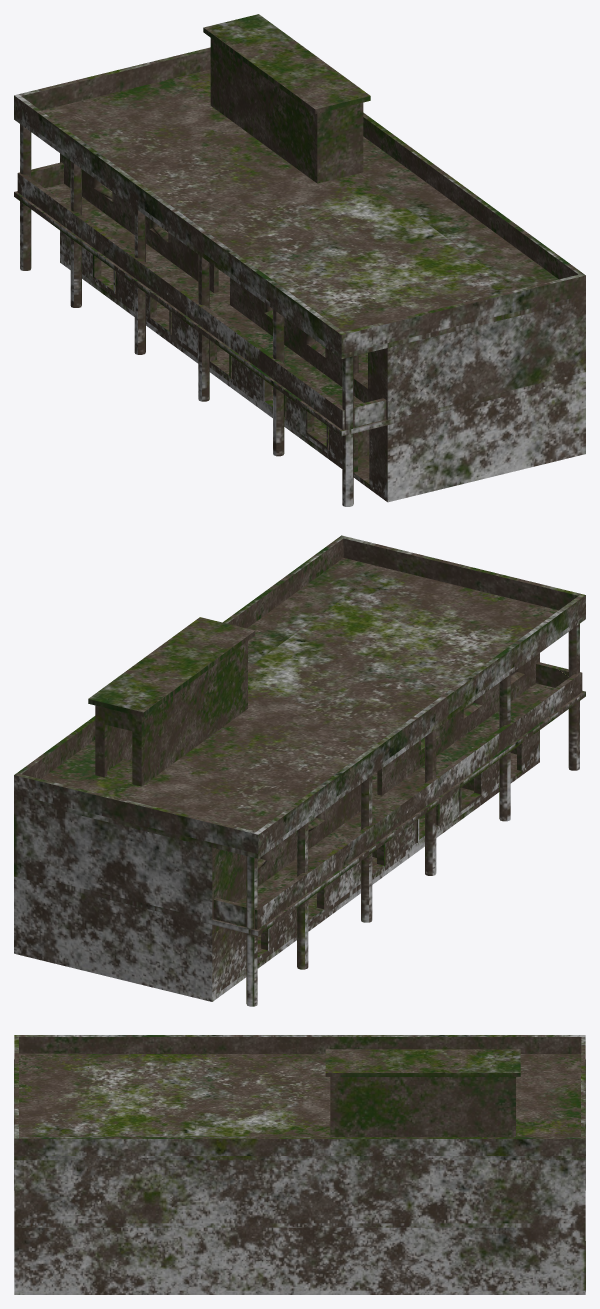
3 views of the same model, one above another, from view 1: azimuth 30°, elevation 25°; view 2: azimuth 150°, elevation 25°; view 3: azimuth 270°, elevation 25° (orthographic). The views are drawn at different scales.
Visible parts, largest first — view 1: desert5; view 2: desert5; view 3: desert5.
Boxes of the visible parts, x1,y1,x2,y2 form: desert5: [14, 14, 585, 506]; desert5: [14, 535, 585, 1006]; desert5: [14, 1035, 585, 1294].
Bounding box in the file's own units: 956 × 884 × 2221.
1 material, 1 textured.
